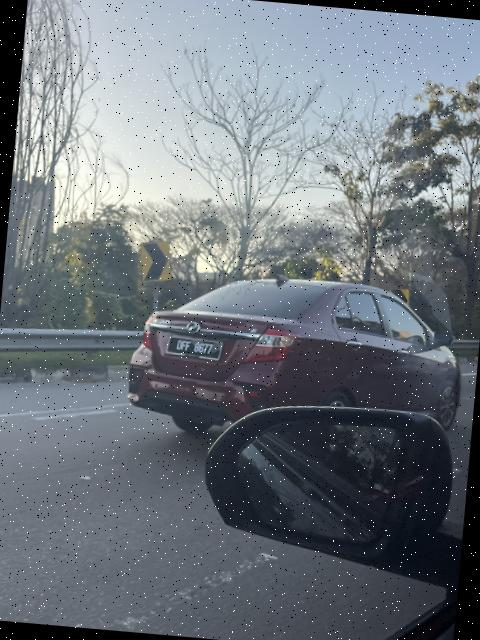License_Plate: (158, 330, 229, 368)
car: (127, 264, 470, 468)
